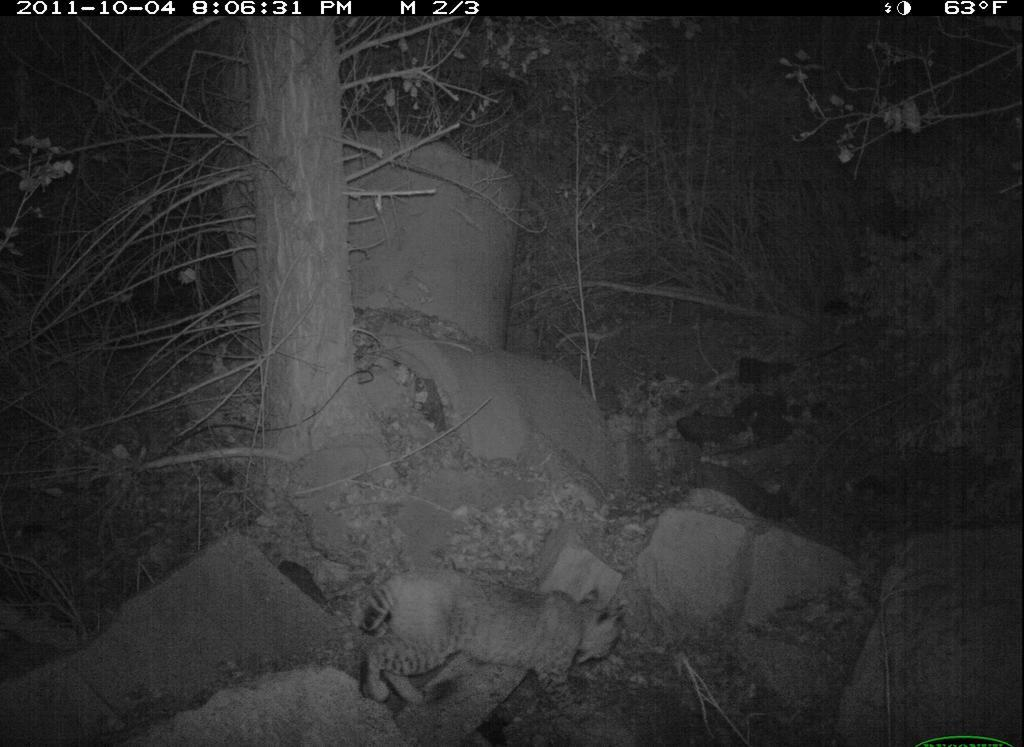bobcat: (356, 562, 629, 726)
